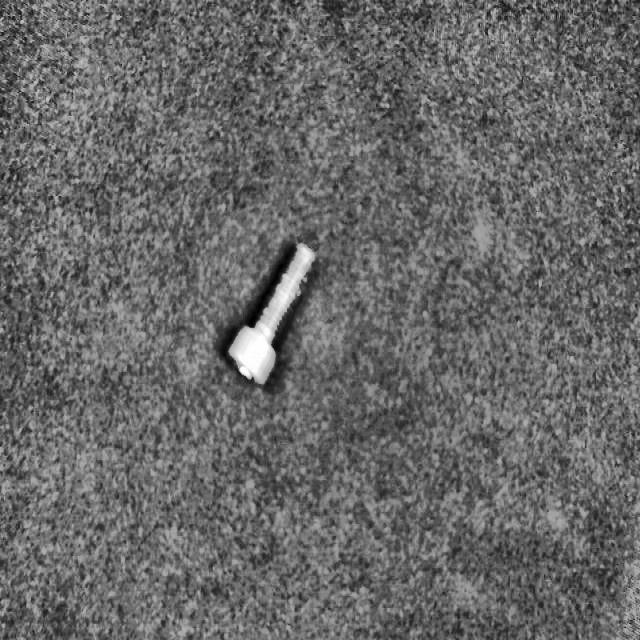Socket head cap screw: (223, 240, 326, 397)
